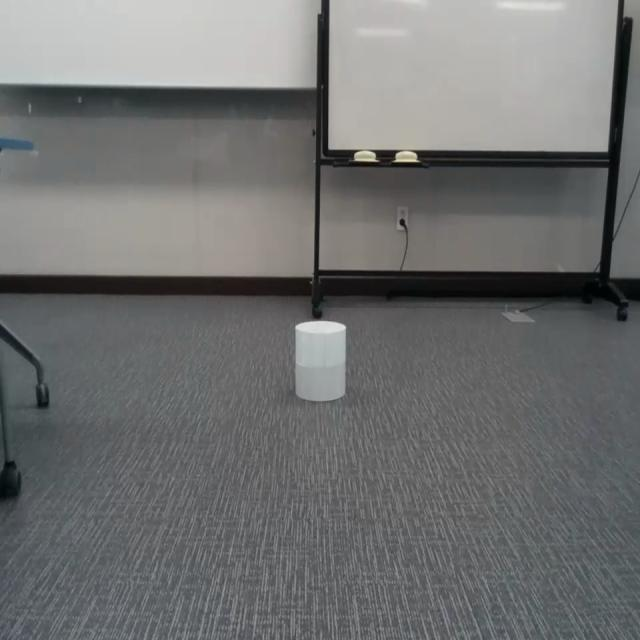cylinder: (294, 320, 347, 402)
